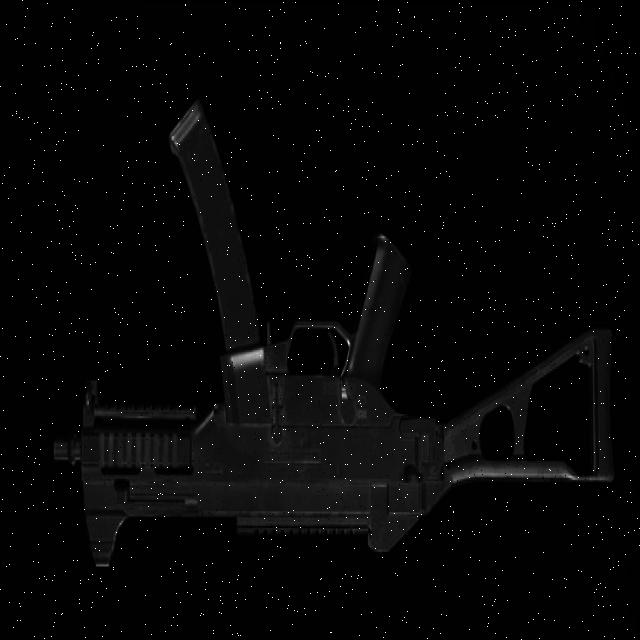firearm: (52, 98, 615, 572)
